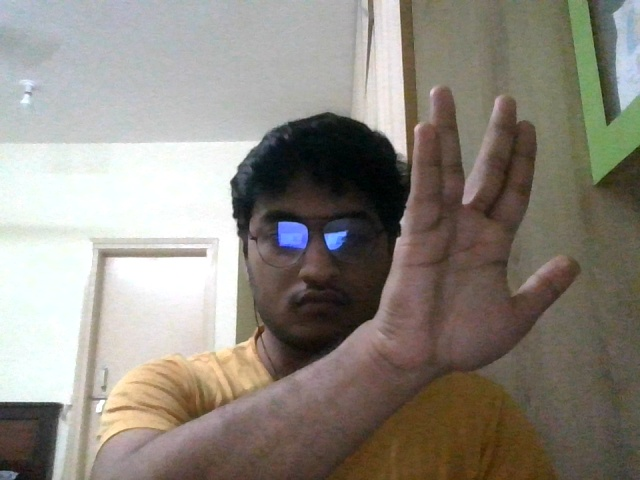livelong: (384, 86, 581, 371)
